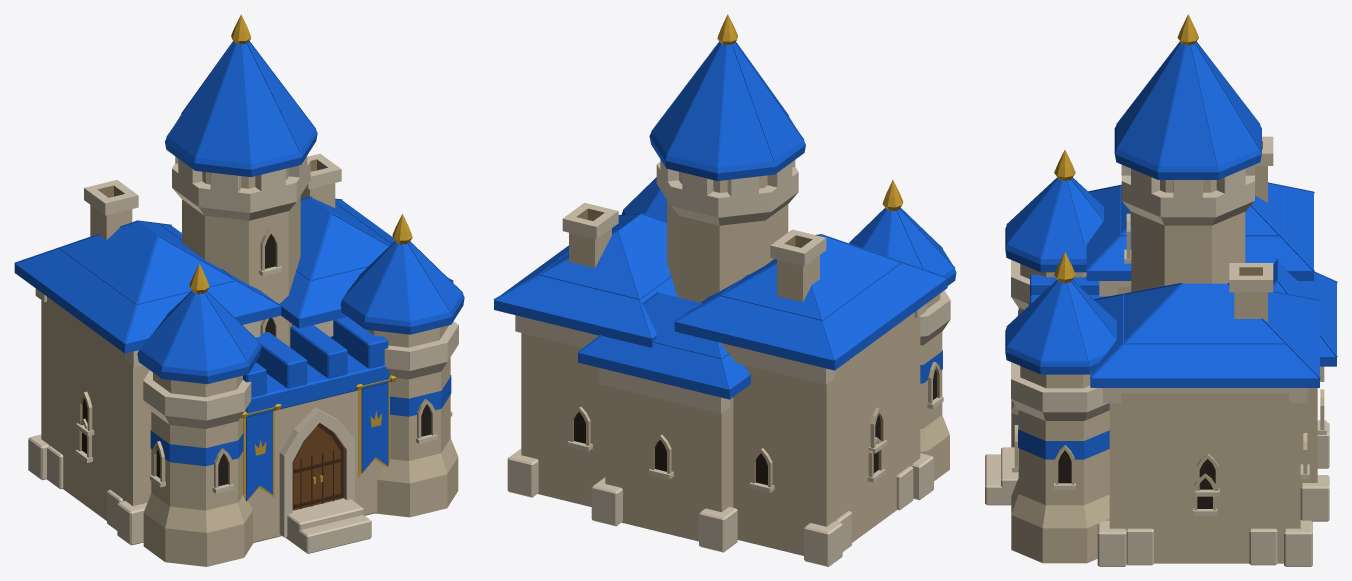
Rendered from city.glb.
3 views of the same model, side by side, from view 1: azimuth 30°, elevation 25°; view 2: azimuth 150°, elevation 25°; view 3: azimuth 270°, elevation 25° (orthographic). The views are drawn at different scales.
Visible parts, largest first — view 1: city; view 2: city; view 3: city.
Part boxes in pixels (bbox=[...]): city: bbox=[14, 14, 464, 566]; city: bbox=[493, 14, 956, 566]; city: bbox=[985, 14, 1337, 566].
Size of the model in its own units: 0.4892 by 0.6507 by 0.4374.
